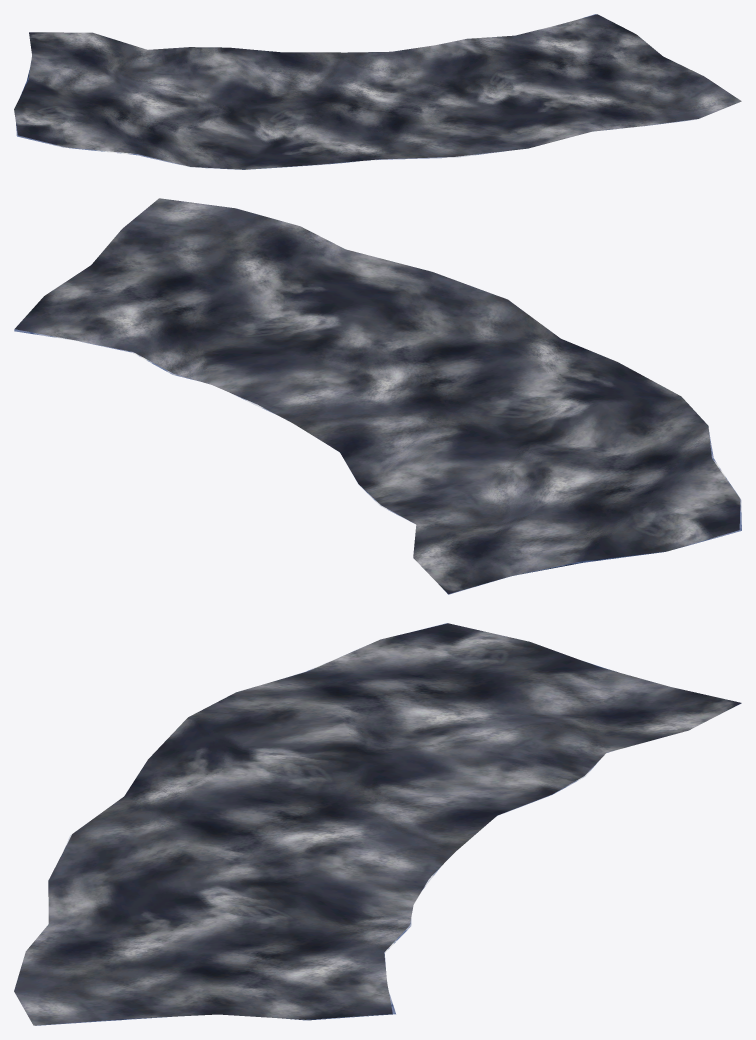
The model's file is EKH_ENTRANCE_WATER_EN_WATER_01.fbx.
3 renders of one model, top to bottom at view 1: azimuth 30°, elevation 25°; view 2: azimuth 150°, elevation 25°; view 3: azimuth 270°, elevation 25°, orthographic. The views are drawn at different scales.
Visible parts, largest first — view 1: EKH_ENTRANCE_WATER_EN_WATER_01; view 2: EKH_ENTRANCE_WATER_EN_WATER_01; view 3: EKH_ENTRANCE_WATER_EN_WATER_01.
Boxes of the visible parts, x1,y1,x2,y2 form: EKH_ENTRANCE_WATER_EN_WATER_01: (14, 14, 741, 169); EKH_ENTRANCE_WATER_EN_WATER_01: (14, 198, 741, 594); EKH_ENTRANCE_WATER_EN_WATER_01: (14, 623, 741, 1025).
Bounding box in the file's own units: 216225 × 1458 × 165150.
2 materials, 2 textured.
